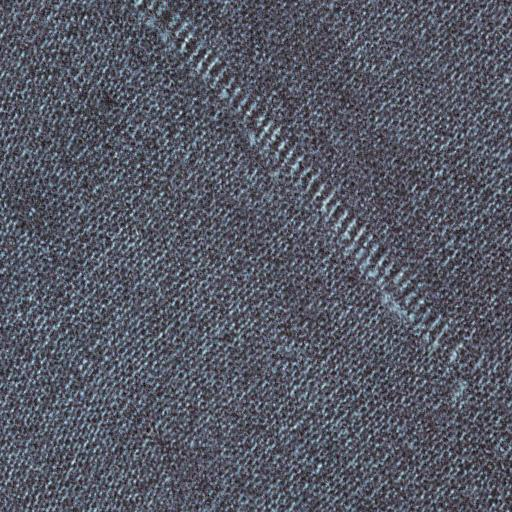slub: (162, 11, 465, 362)
